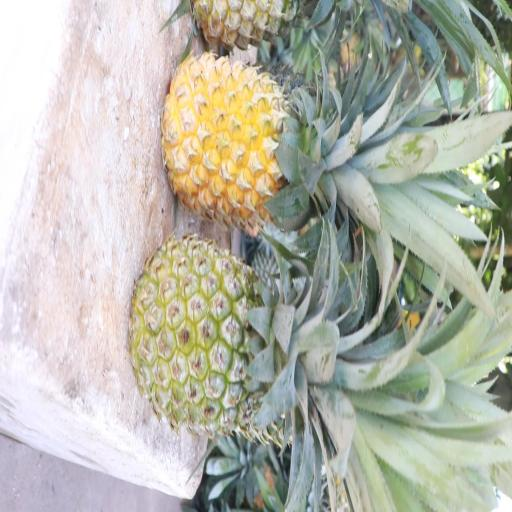------------------------------: (132, 239, 332, 430)
Pineapple - v8 v1: (164, 48, 345, 216)
